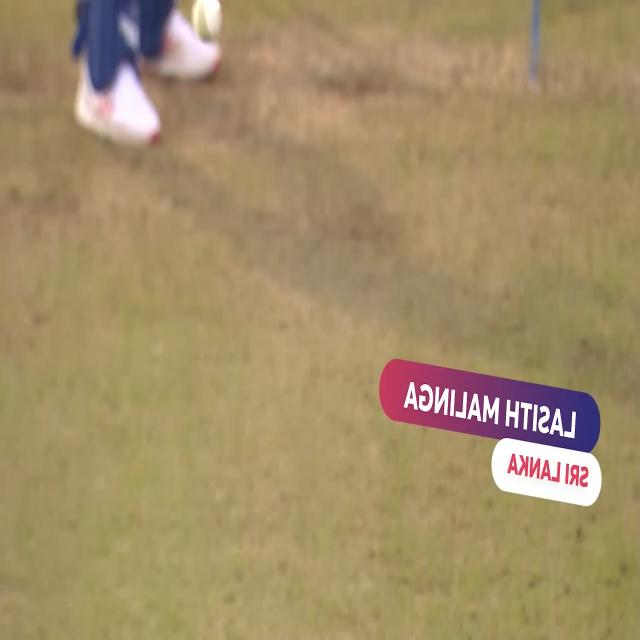ball: (188, 0, 228, 37)
